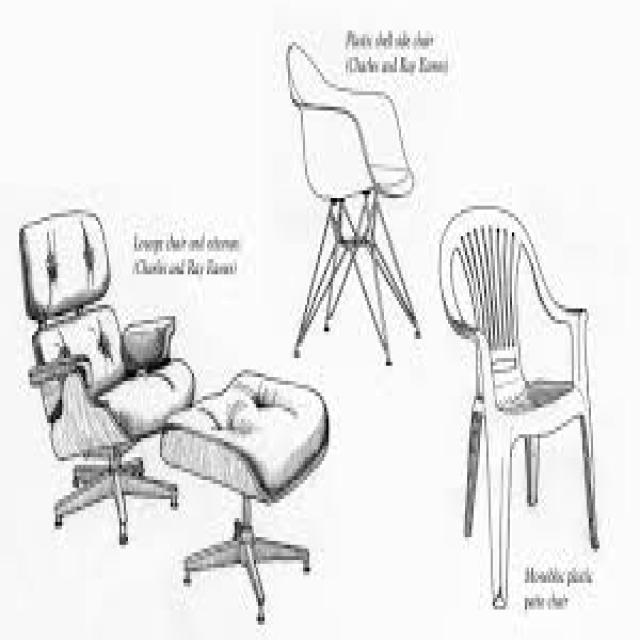chair: (429, 184, 610, 618), (10, 200, 200, 558), (257, 19, 428, 371)
